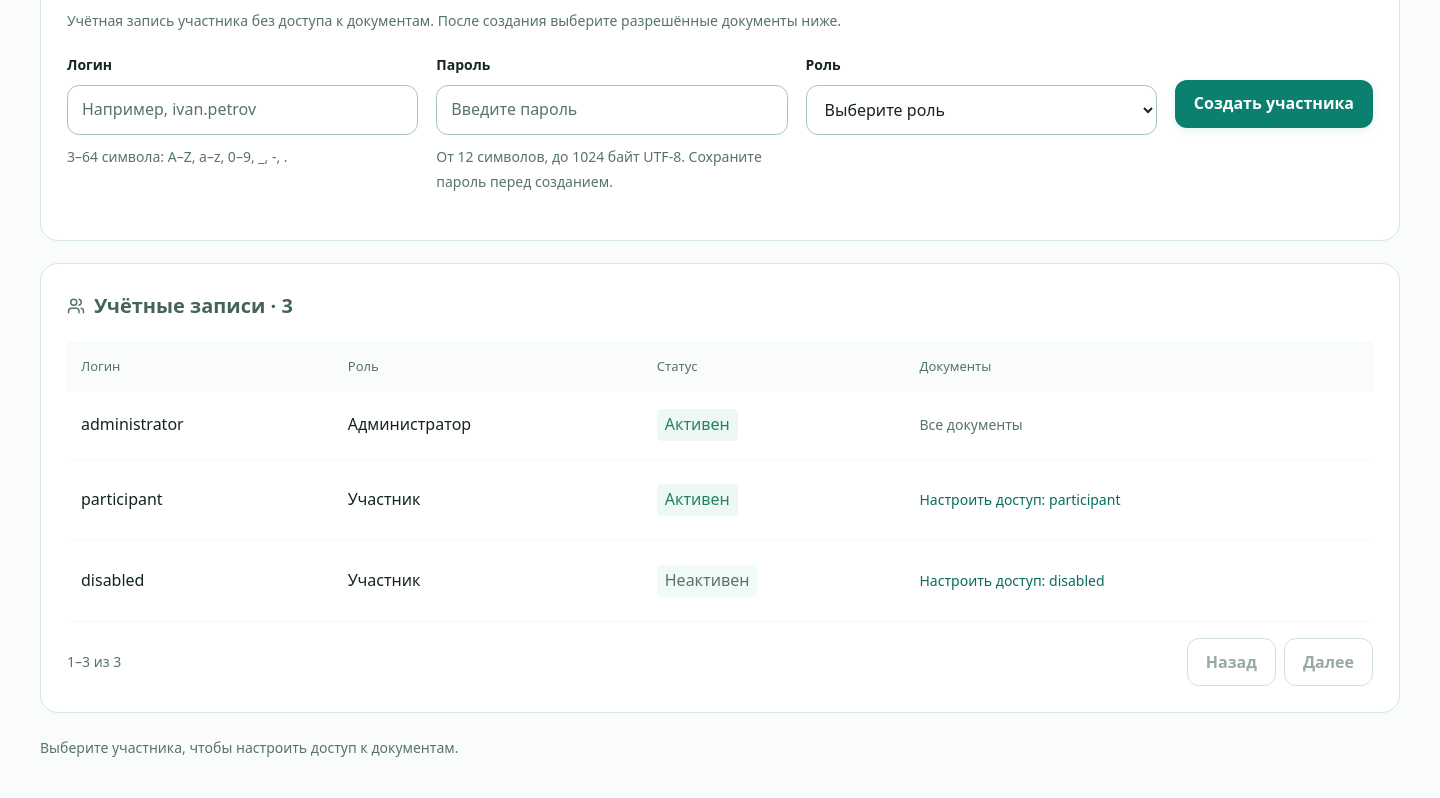
selected user document access › does not guess permissions or enable grants after ACL list failure
The width and height of the screenshot is (1440, 798).
(page scrolled)
Step 1. Click the button "Настроить доступ: participant" → (1020, 500), box [919,478,1120,522]
(page scrolled)
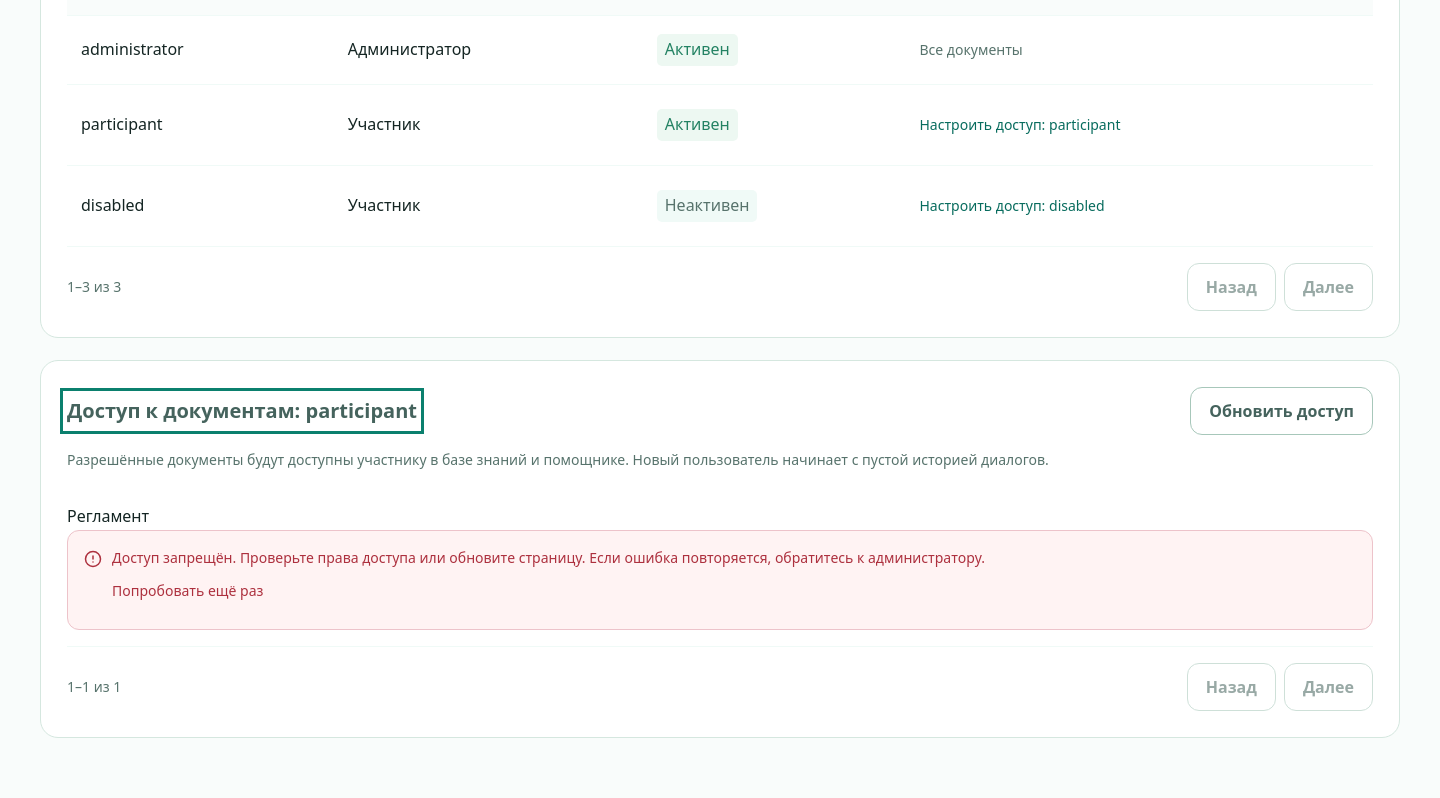
Expected: the message shows "Доступ запрещён", [112,548,985,566]
